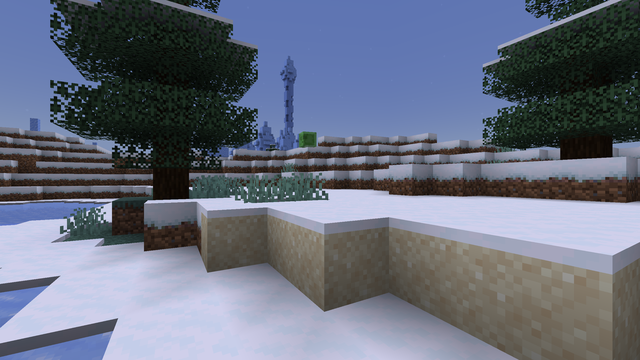slimes: (298, 130, 317, 147)
